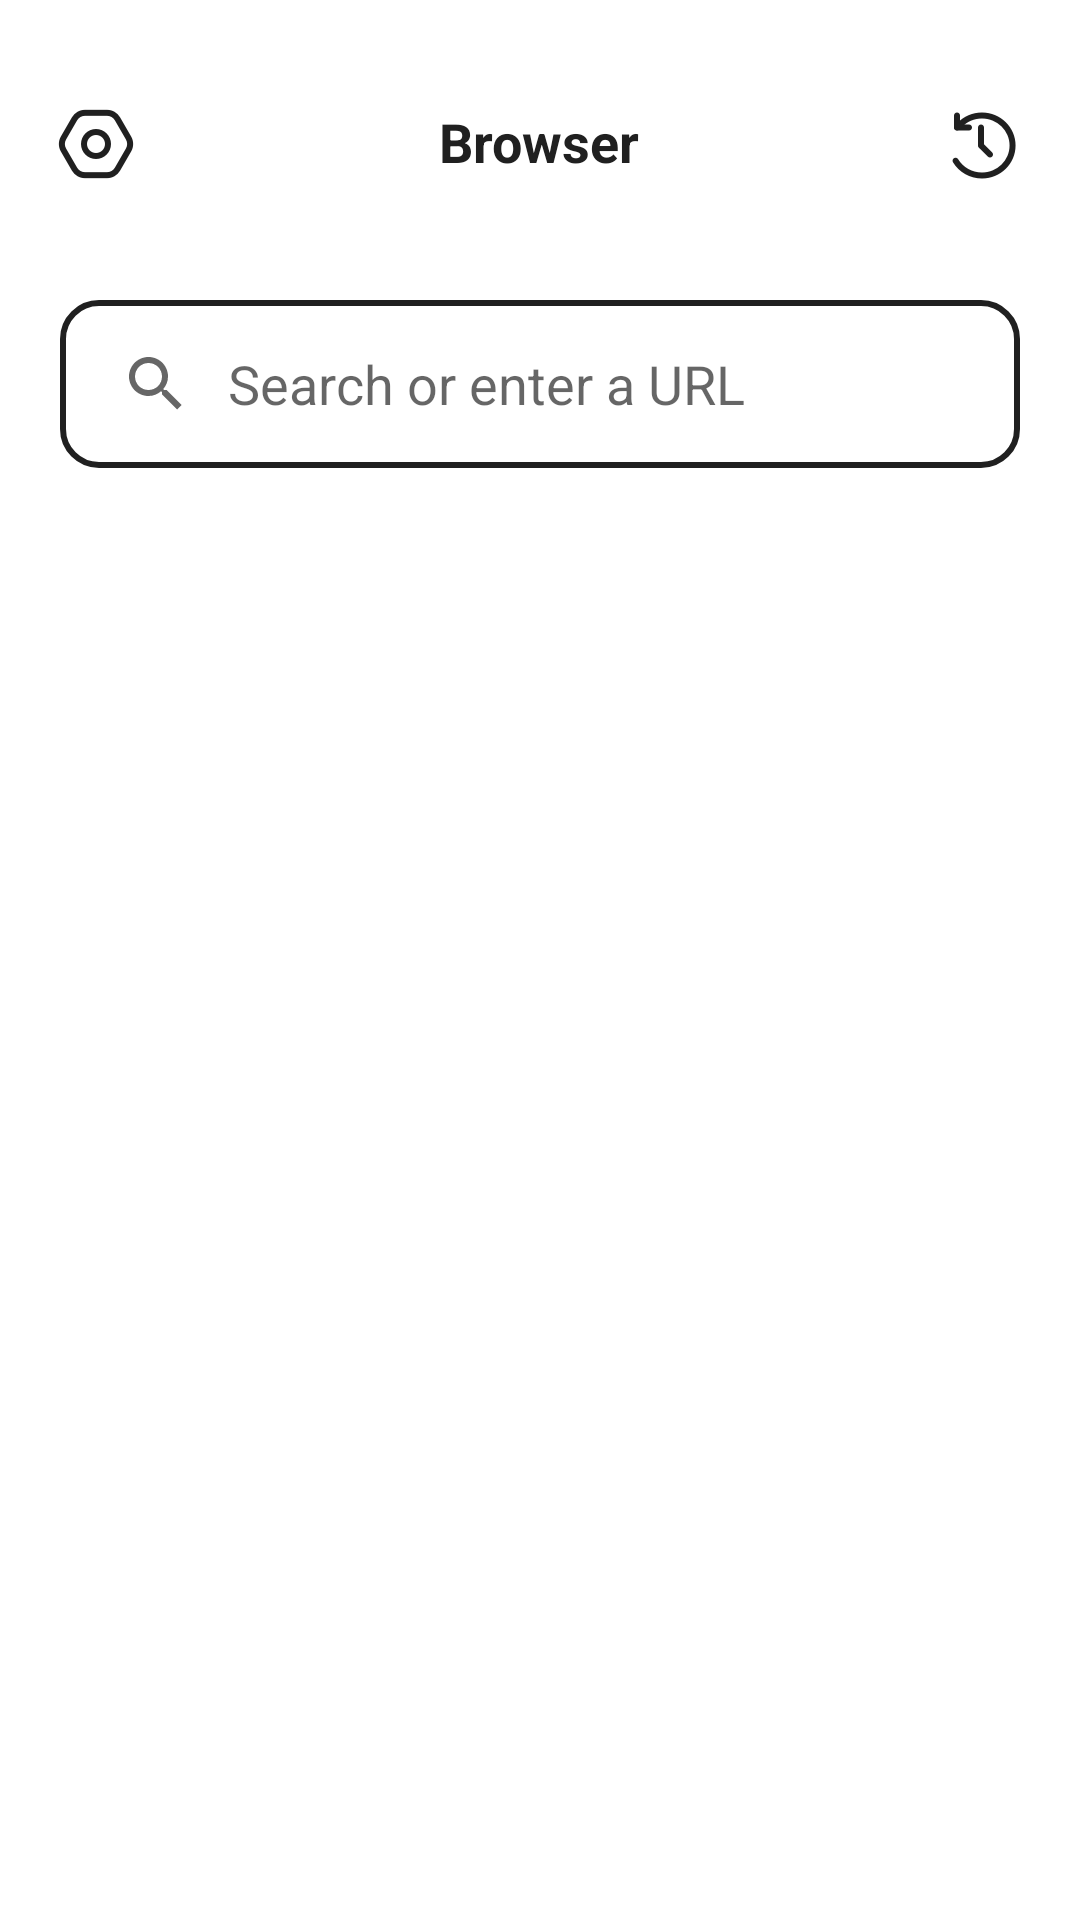

Icon click points for this 1080px×1920px phone screenshot, format (x,y):
history navigate: (984,145)
setting homepage: (96,144)
